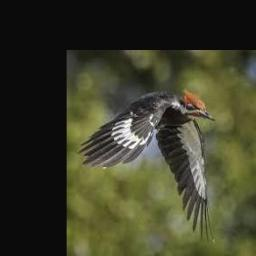Woodpecker: (77, 88, 215, 243)
